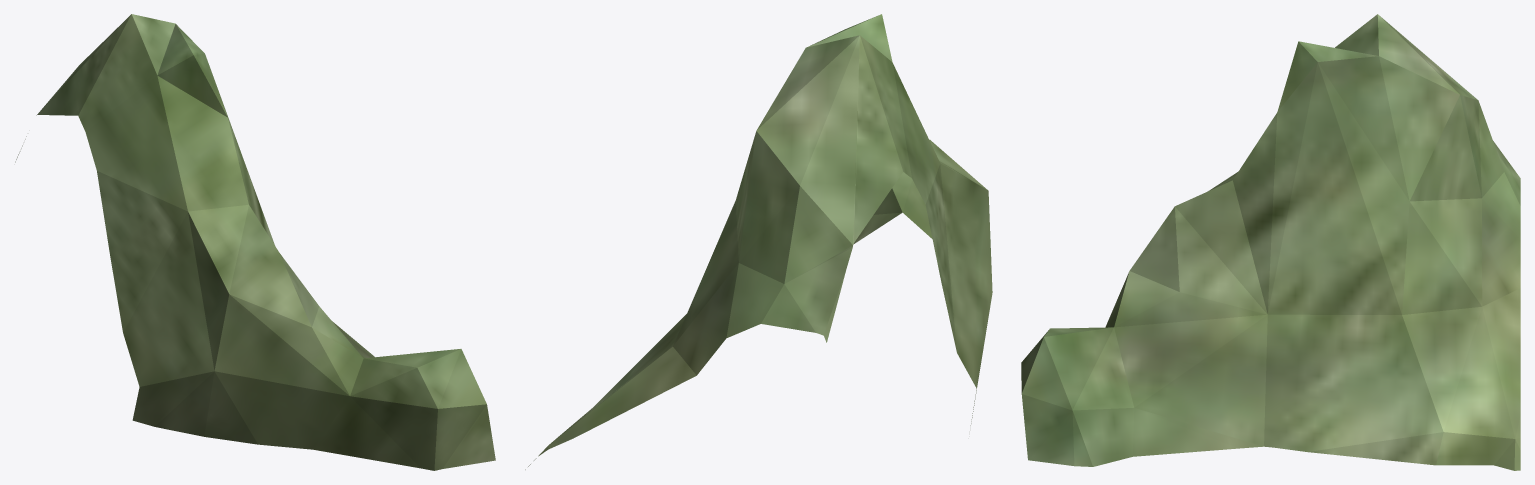
The picture shows the model from 3 angles, left to right: view 1: azimuth 30°, elevation 25°; view 2: azimuth 150°, elevation 25°; view 3: azimuth 270°, elevation 25°; orthographic projection. The views are drawn at different scales.
Bounding box in the file's own units: 0.4512 × 0.615 × 0.7809.
Materials: 1 (1 with a texture image).
